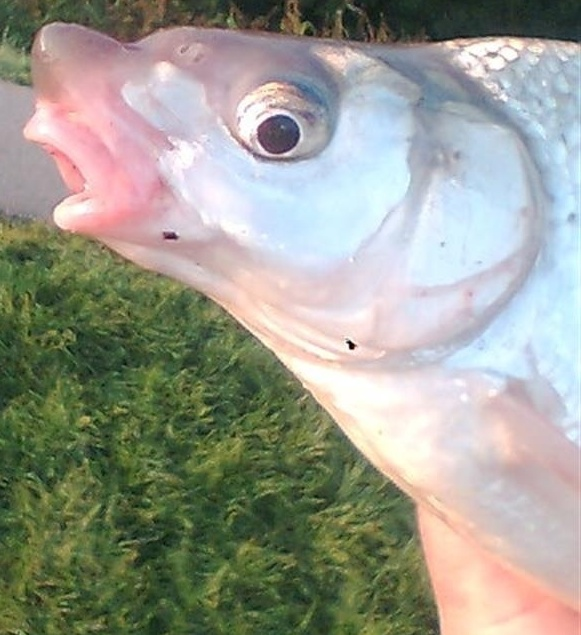Vimba vimba: (20, 20, 581, 615)
